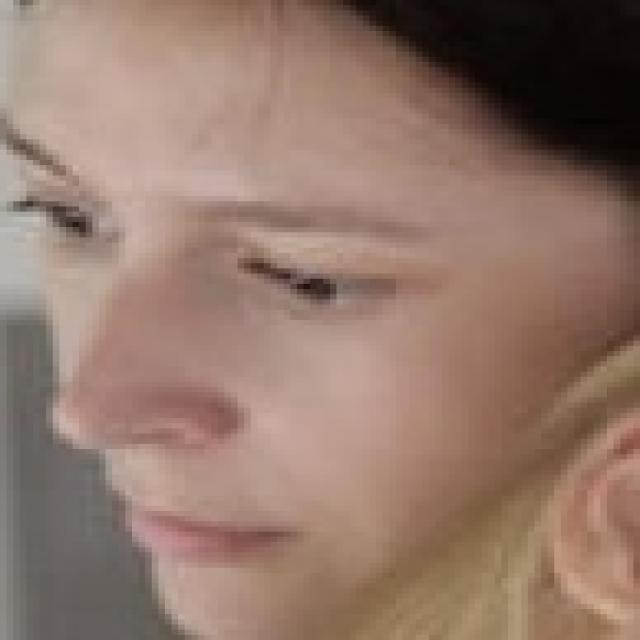Anxiety: (7, 2, 640, 635)
